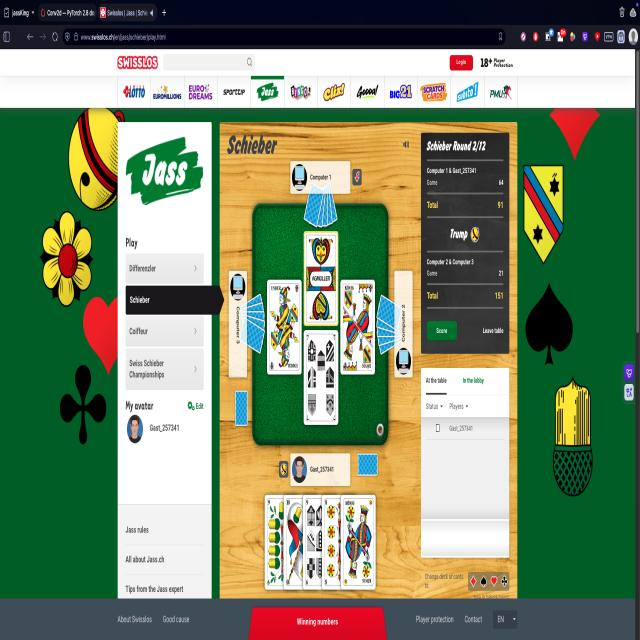ei10: (284, 494, 314, 590)
ei9: (265, 494, 299, 592)
ro8: (322, 494, 358, 592)
rok: (342, 494, 376, 589)
si10: (305, 328, 337, 424)
si9: (304, 494, 338, 592)
sia: (305, 234, 337, 321)
sik: (341, 281, 374, 372)
siu: (268, 281, 301, 375)
